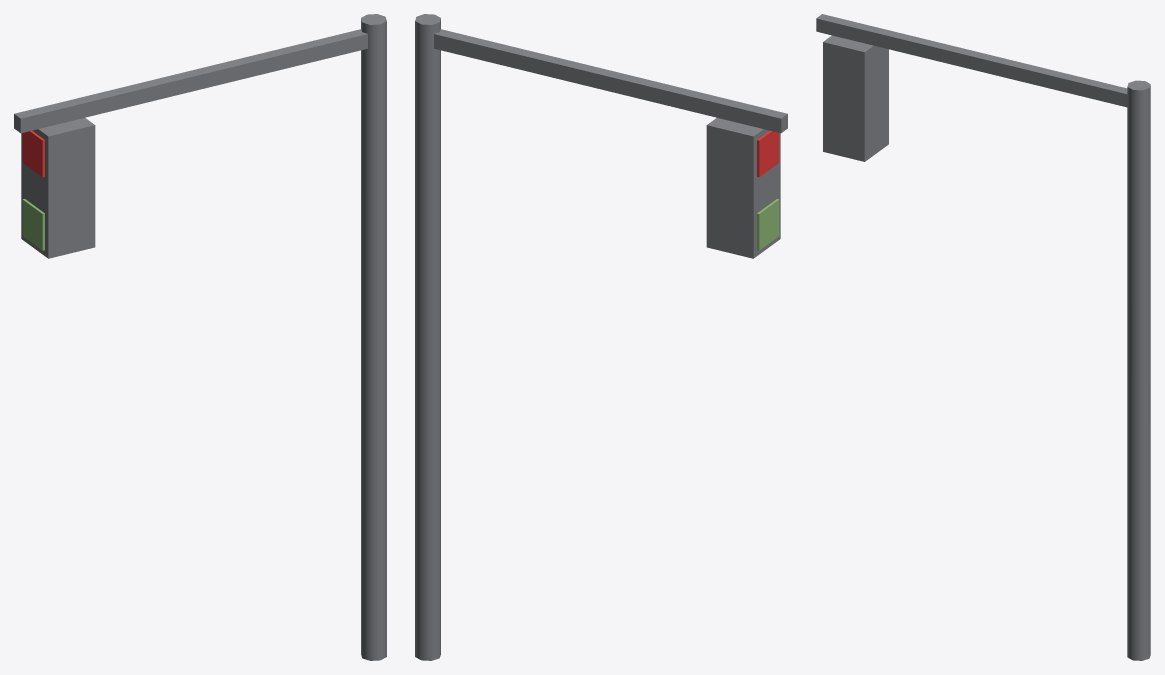
Rendered from traffic_light.glb.
3 renders of one model, left to right at view 1: azimuth 30°, elevation 25°; view 2: azimuth 150°, elevation 25°; view 3: azimuth 330°, elevation 25°, orthographic. The views are drawn at different scales.
Parts seen in each view (by area): view 1: traffic_light; view 2: traffic_light; view 3: traffic_light.
Part boxes in pixels (x1=…): traffic_light: x1=14, y1=14, x2=386, y2=660; traffic_light: x1=415, y1=14, x2=787, y2=660; traffic_light: x1=816, y1=14, x2=1150, y2=660.
Bounding box in the file's own units: 3.15 × 5.2 × 0.4.
